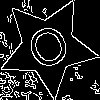O: (23, 22, 78, 80)
